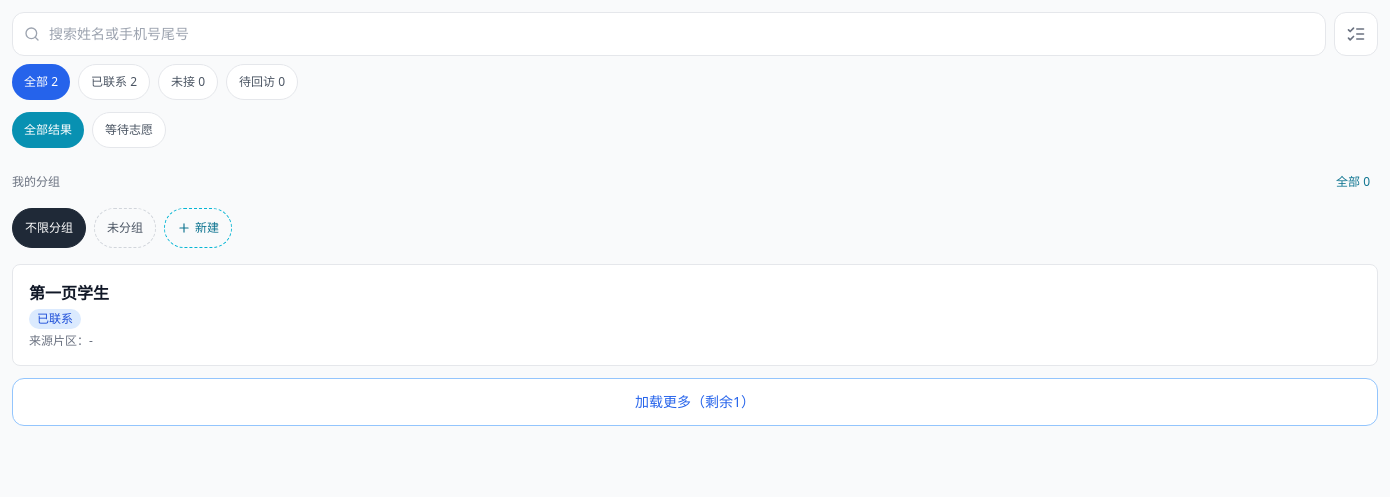
Scenario: MobileHome PendingList › loads more than the first mobile page
The width and height of the screenshot is (1390, 497).
Expected: the text "第一页学生" is shown, [29,282,109,304]
Click the button "加载更多（剩余1）" at (695,402), box [12,378,1378,426]
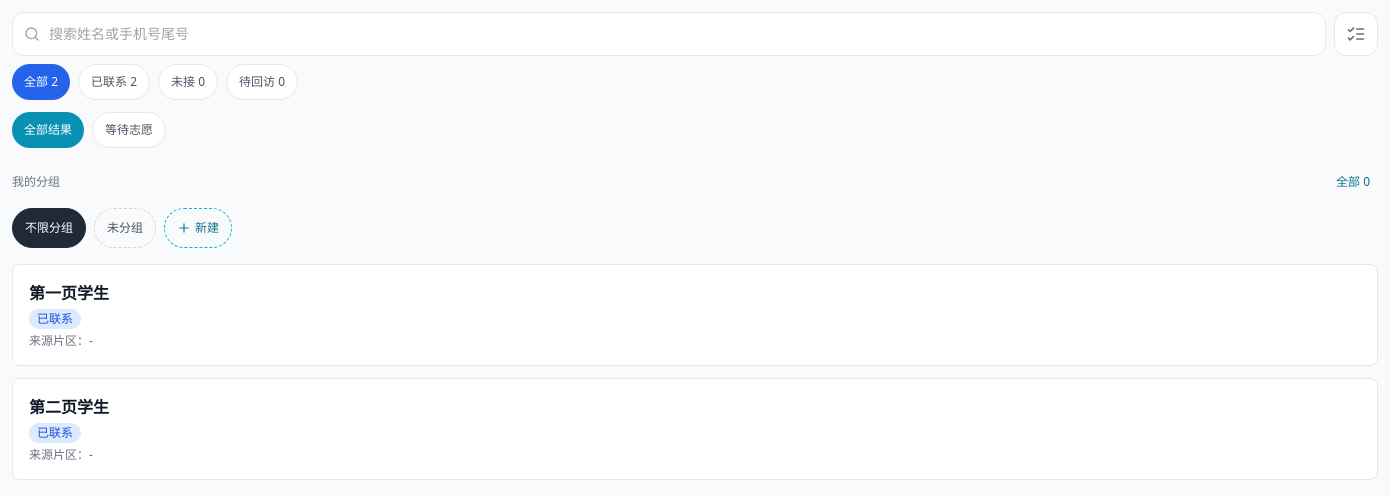
Expected: the text "第二页学生" is shown, [29,396,109,418]
